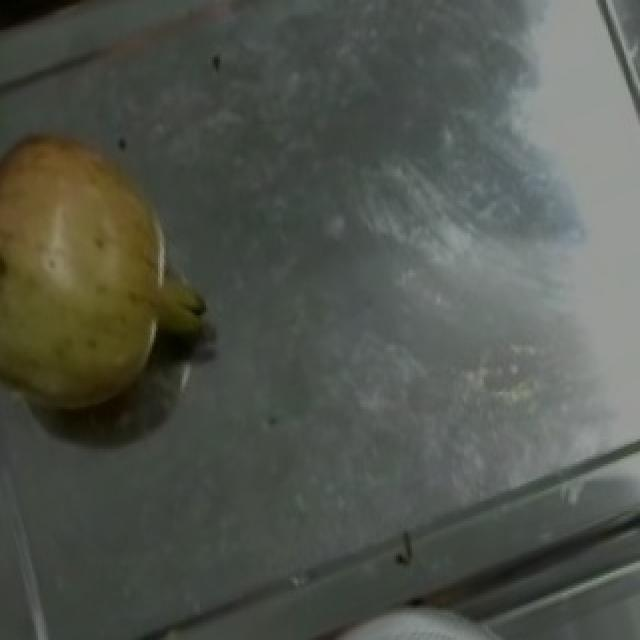fruit: (0, 129, 212, 439)
